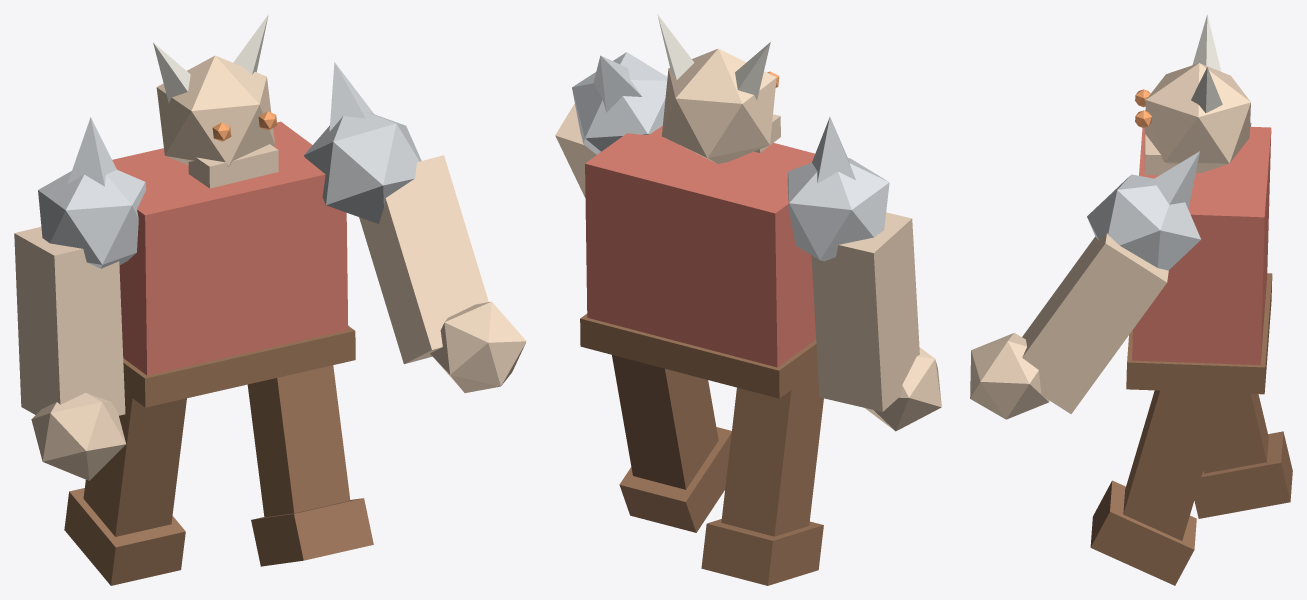
The model's file is npcpose_brute_walk_11.glb.
The picture shows the model from 3 angles, left to right: view 1: azimuth 30°, elevation 25°; view 2: azimuth 150°, elevation 25°; view 3: azimuth 270°, elevation 25°; orthographic projection. The views are drawn at different scales.
Visible parts, largest first — view 1: npcpose; view 2: npcpose; view 3: npcpose.
Part boxes in pixels (box(x1,y1,x2,y2)): npcpose: box(14, 14, 526, 585); npcpose: box(555, 14, 941, 585); npcpose: box(970, 14, 1292, 585).
Bounding box in the file's own units: 1.46 × 1.87 × 1.1.
